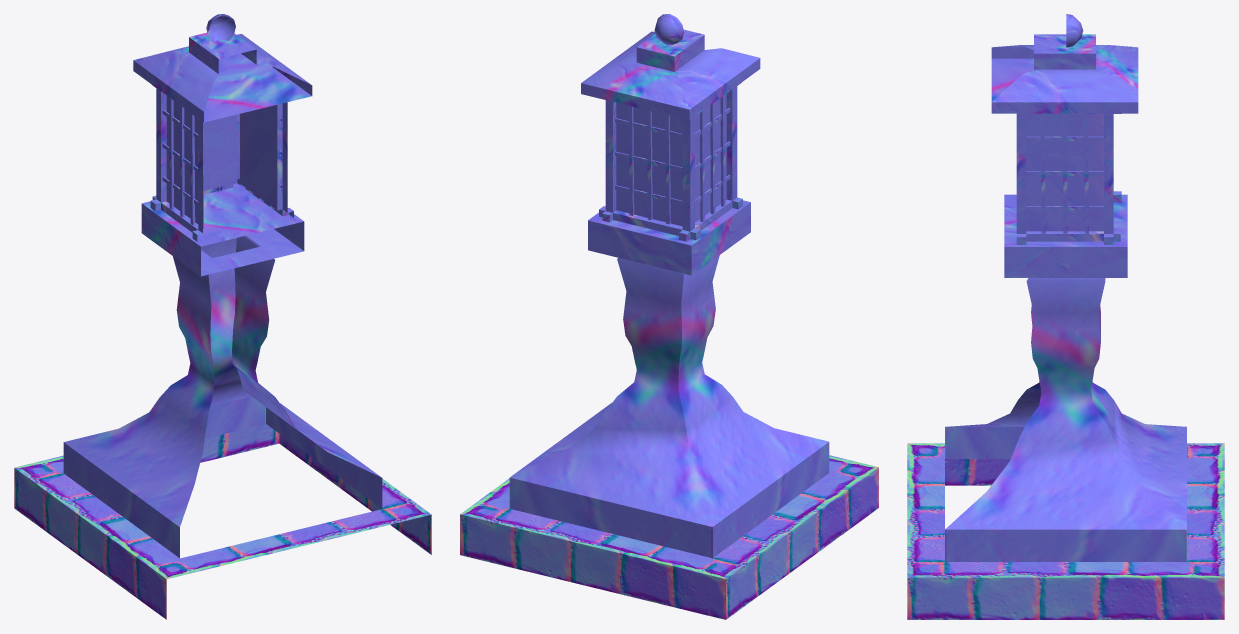
The model's file is StoneLantern.fbx.
3 views of the same model, side by side, from view 1: azimuth 30°, elevation 25°; view 2: azimuth 150°, elevation 25°; view 3: azimuth 270°, elevation 25° (orthographic). The views are drawn at different scales.
Visible parts, largest first — view 1: OutdoorLantern; view 2: OutdoorLantern; view 3: OutdoorLantern.
Boxes of the visible parts, x1,y1,x2,y2 form: OutdoorLantern: (14,14,431,619); OutdoorLantern: (460,14,878,619); OutdoorLantern: (907,14,1224,619).
Bounding box in the file's own units: 96.58 × 180 × 96.27.
